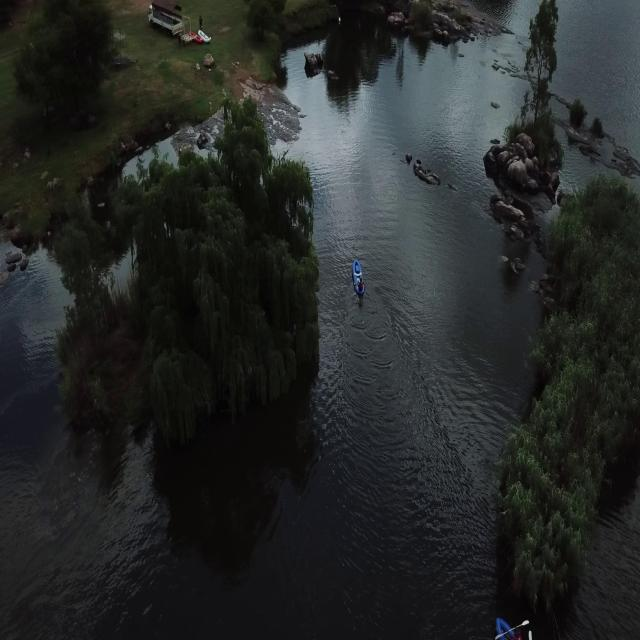kayak: (350, 256, 367, 300)
